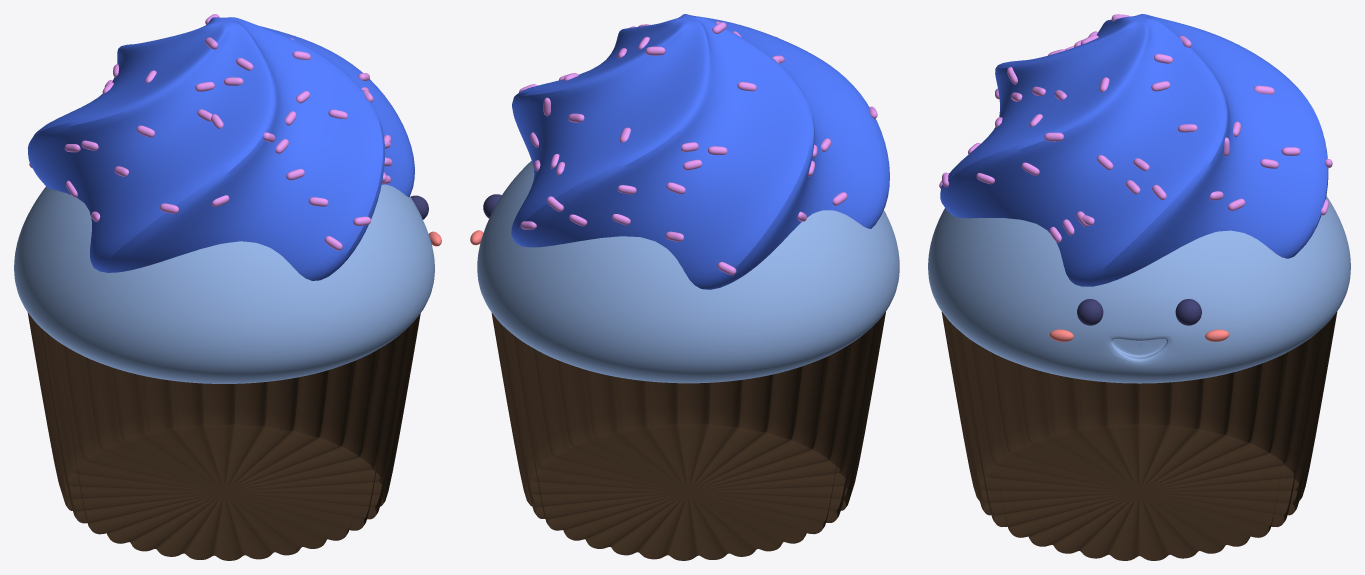
Rendered from blue-cupcake.glb.
3 views of the same model, side by side, from view 1: azimuth 30°, elevation 25°; view 2: azimuth 150°, elevation 25°; view 3: azimuth 270°, elevation 25° (orthographic).
Parts seen in each view (by area): view 1: Star, Circle, Sphere; view 2: Star, Circle, Sphere; view 3: Star, Circle, Sphere, Sphere.001.
Boxes of the visible parts, x1,y1,x2,y2 form: Star: (27,17,414,280); Circle: (27,312,420,560); Sphere: (14,184,434,383); Star: (511,14,889,289); Circle: (491,312,885,560); Sphere: (477,161,899,383); Star: (940,14,1328,286); Circle: (941,312,1337,560); Sphere: (928,196,1350,383); Sphere.001: (1077,299,1201,325).
Bounding box in the file's own units: 2.08 × 2.59 × 2.09.
